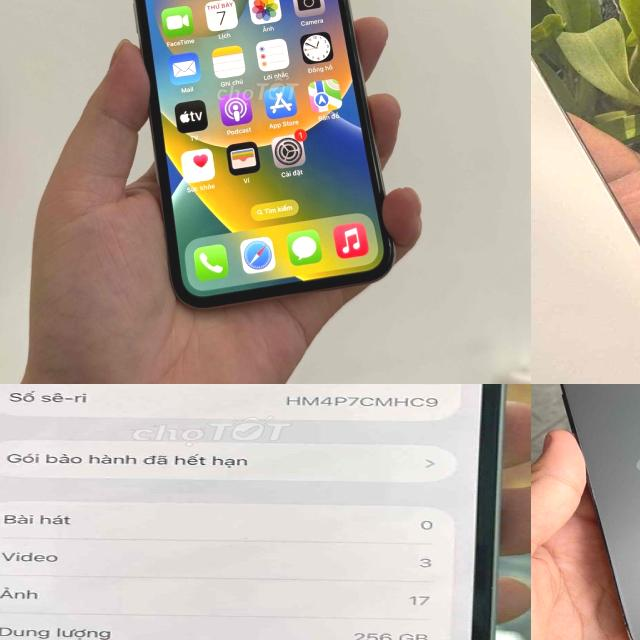gen_12_13: (531, 0, 640, 384)
gen_14: (532, 384, 640, 640)
gen_15: (0, 384, 504, 640)
gen_x_xs: (120, 0, 396, 312)
